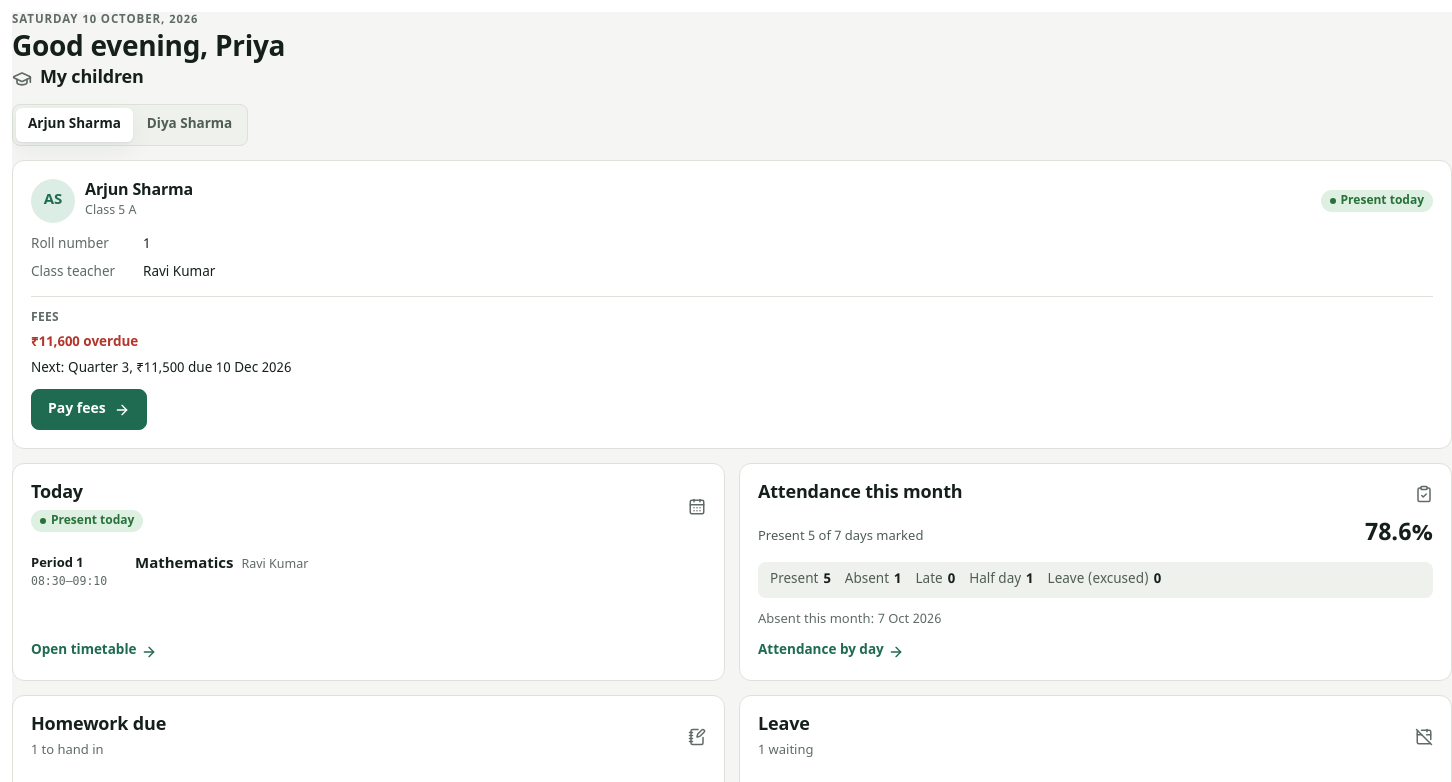
Test: FamilyHome for a parent › switches child and remembers the choice on this device
The image size is (1452, 782).
Expected: the element "Arjun Sharma" is shown, [12, 160, 1451, 449]
Click the radio button labelled "Diya Sharma": x=190, y=125 [147, 116, 232, 134]
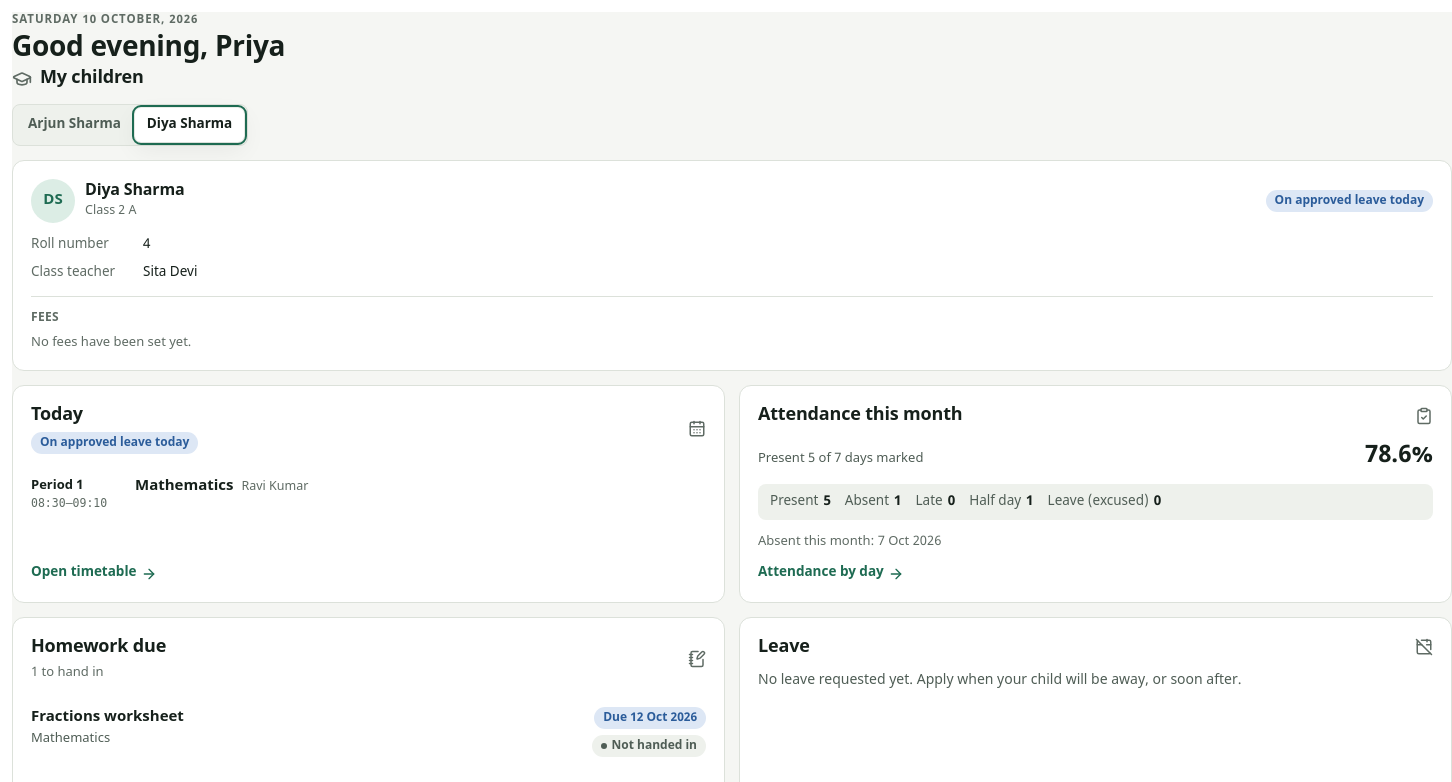
Expected: the text "On approved leave today" in the row of "Class 2 A" is shown, [1275, 193, 1424, 209]
Expected: the text "No fees have been set yet." is shown, [31, 334, 191, 351]
